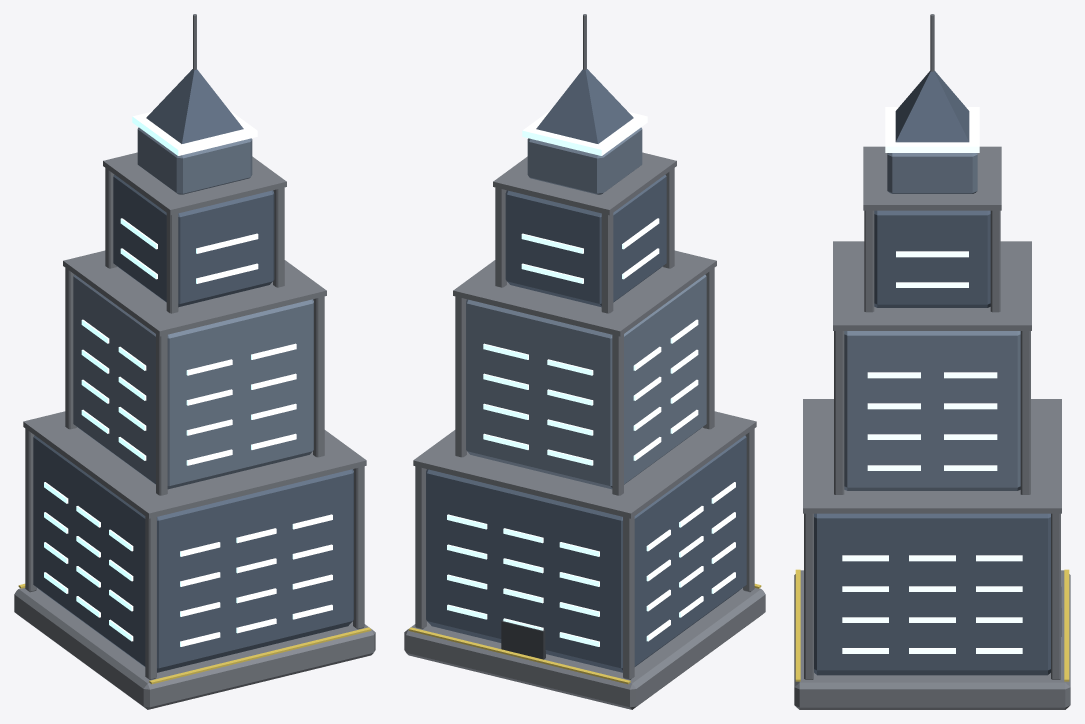
Rendered from zone_high_1.glb.
The picture shows the model from 3 angles, left to right: view 1: azimuth 30°, elevation 25°; view 2: azimuth 150°, elevation 25°; view 3: azimuth 270°, elevation 25°; orthographic projection. The views are drawn at different scales.
Visible parts, largest first — view 1: zone_high_1, detail; view 2: zone_high_1, detail; view 3: zone_high_1, detail.
Part boxes in pixels (bbox=[...]): zone_high_1: bbox=[14, 69, 375, 709]; detail: bbox=[18, 14, 371, 684]; zone_high_1: bbox=[404, 69, 765, 709]; detail: bbox=[408, 14, 761, 684]; zone_high_1: bbox=[794, 71, 1070, 709]; detail: bbox=[795, 14, 1069, 681].
Size of the model in its own units: 27.5 by 70.25 by 27.5.
